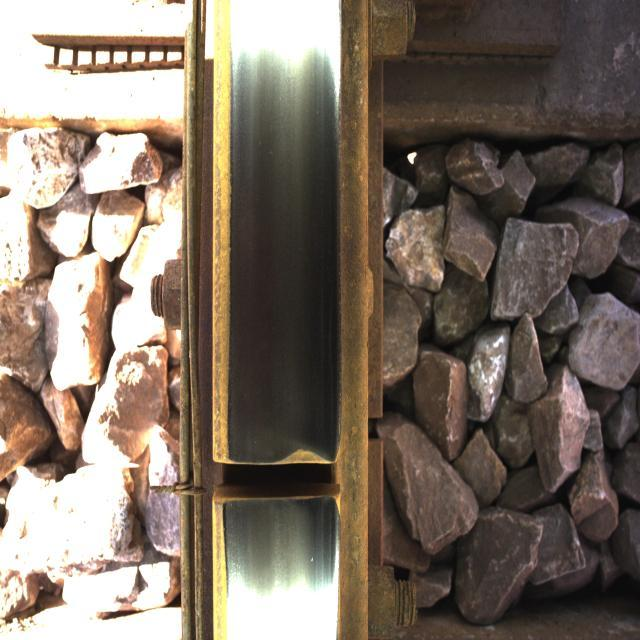spalling: (188, 397, 382, 552)
